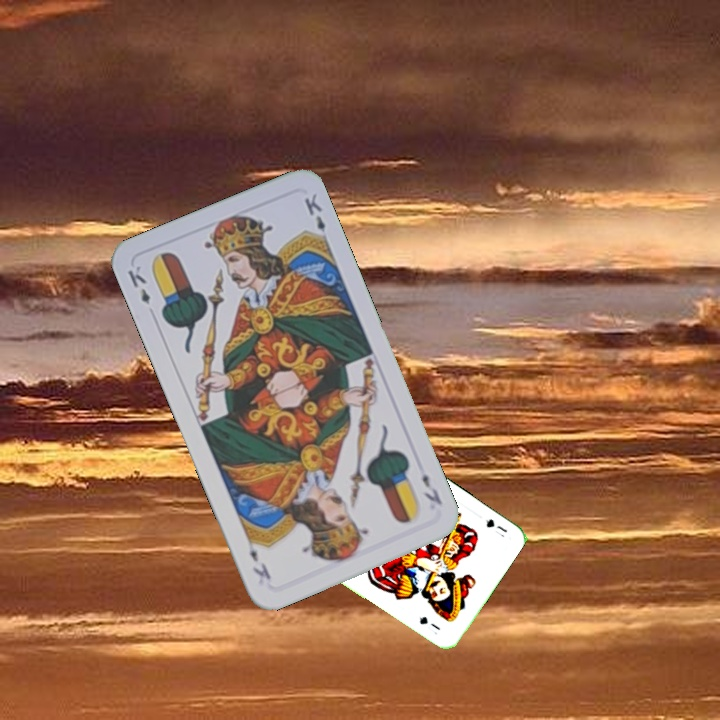EK: (123, 261, 153, 307), (418, 469, 445, 508)
GU: (481, 515, 510, 535)
